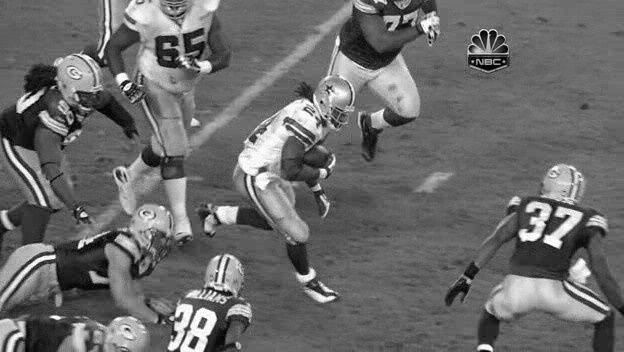person: (318, 78, 353, 132), (317, 78, 352, 132), (319, 78, 354, 132), (318, 77, 353, 131), (318, 79, 353, 133)
target_negative: (430, 36, 575, 314), (2, 19, 226, 191), (122, 124, 376, 242), (404, 297, 610, 349), (337, 159, 463, 233), (514, 15, 544, 219)
